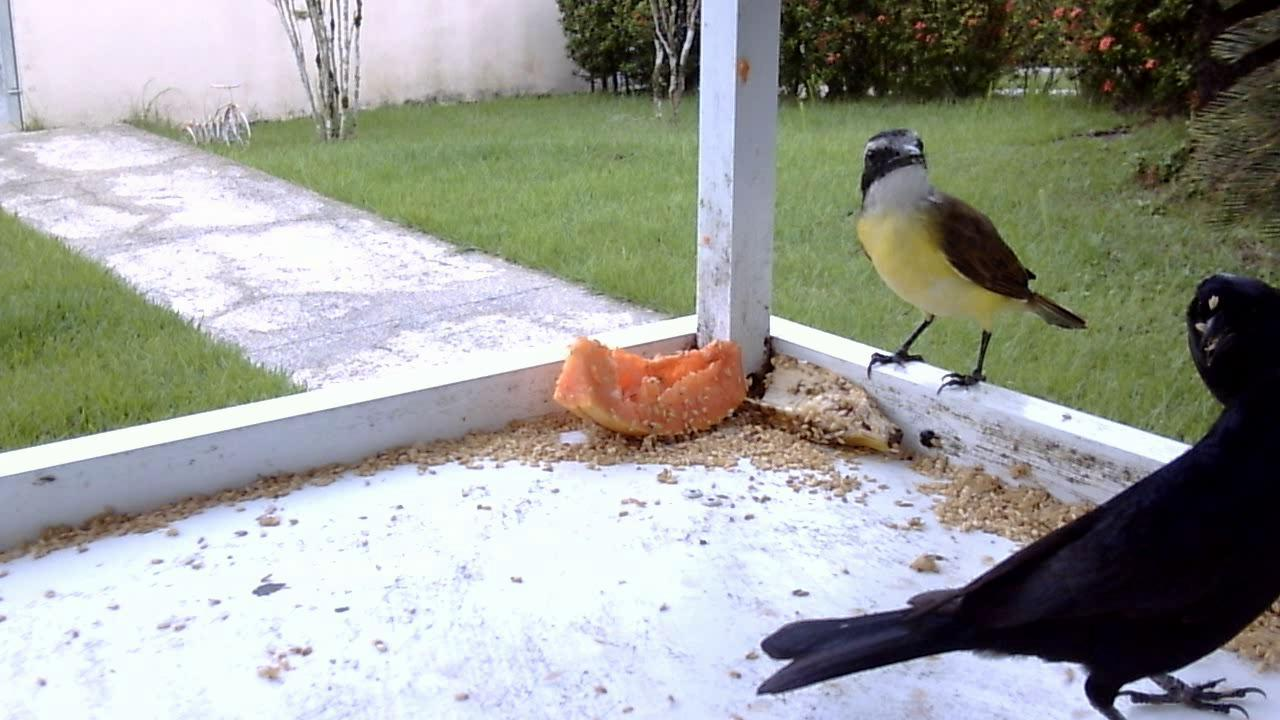bem_te_vi: (843, 122, 1092, 414)
chupim: (764, 287, 1280, 720)
